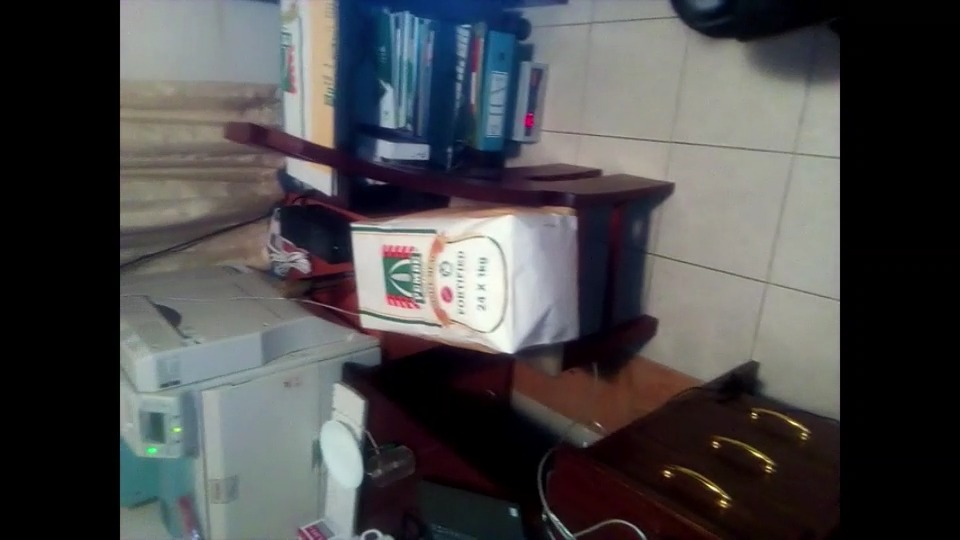maize_flour_green_label: (353, 206, 580, 351)
